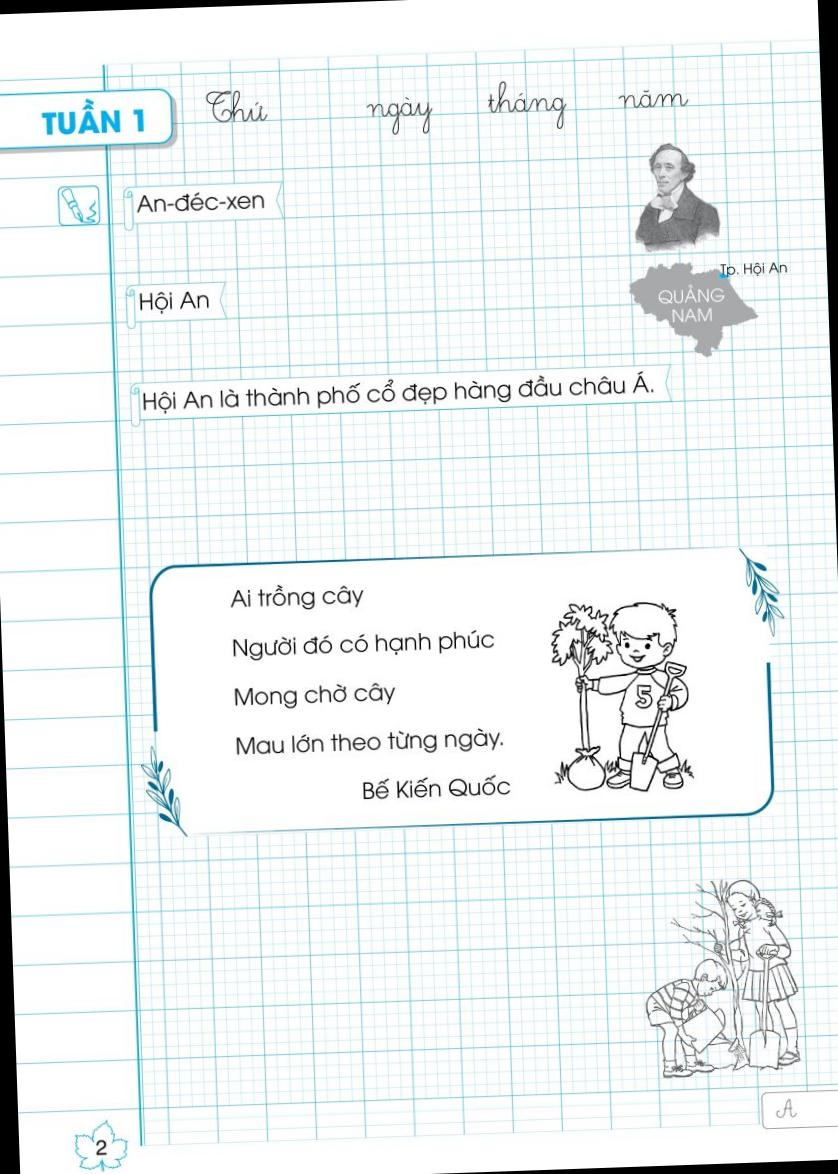text: (140, 368, 662, 420), (226, 722, 506, 768), (224, 623, 496, 667), (232, 676, 407, 717), (356, 770, 514, 808), (477, 78, 573, 134), (223, 584, 370, 619), (31, 98, 149, 140), (128, 183, 273, 217), (361, 88, 440, 140), (132, 280, 217, 318), (200, 88, 270, 128), (614, 82, 694, 116), (651, 280, 729, 312), (715, 258, 793, 283), (665, 300, 718, 332), (771, 1097, 803, 1122), (88, 1136, 110, 1160)
